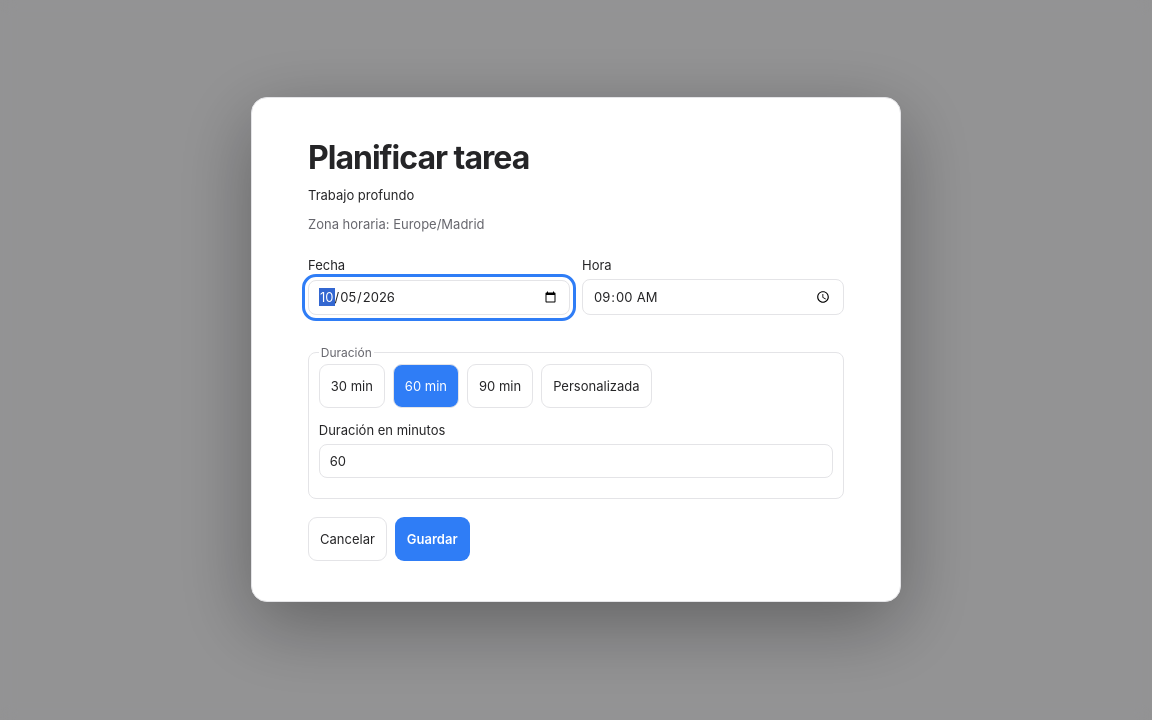
it: schedule command paths and validation › rejects invalid time without mutation
This screenshot has width=1152, height=720.
Clear the time field labelled "Hora": {"x": 713, "y": 297} left=582, top=279, right=844, bottom=315
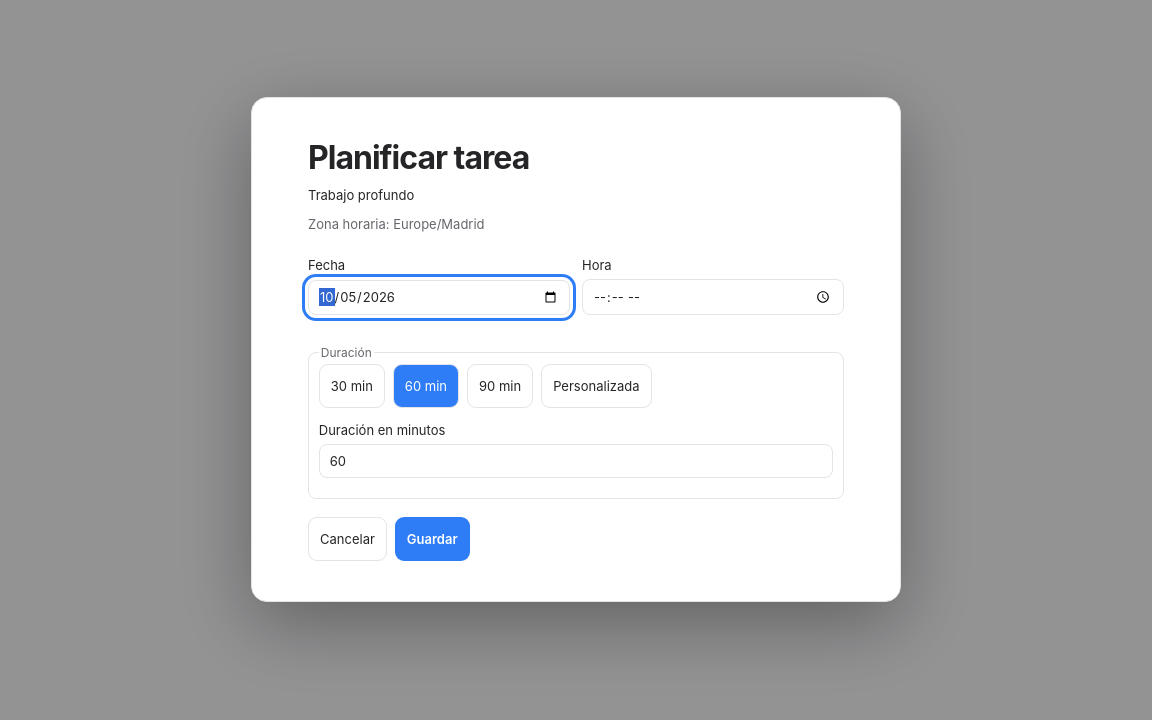
Submit the form named "Guardar", box left=296, top=126, right=856, bottom=573
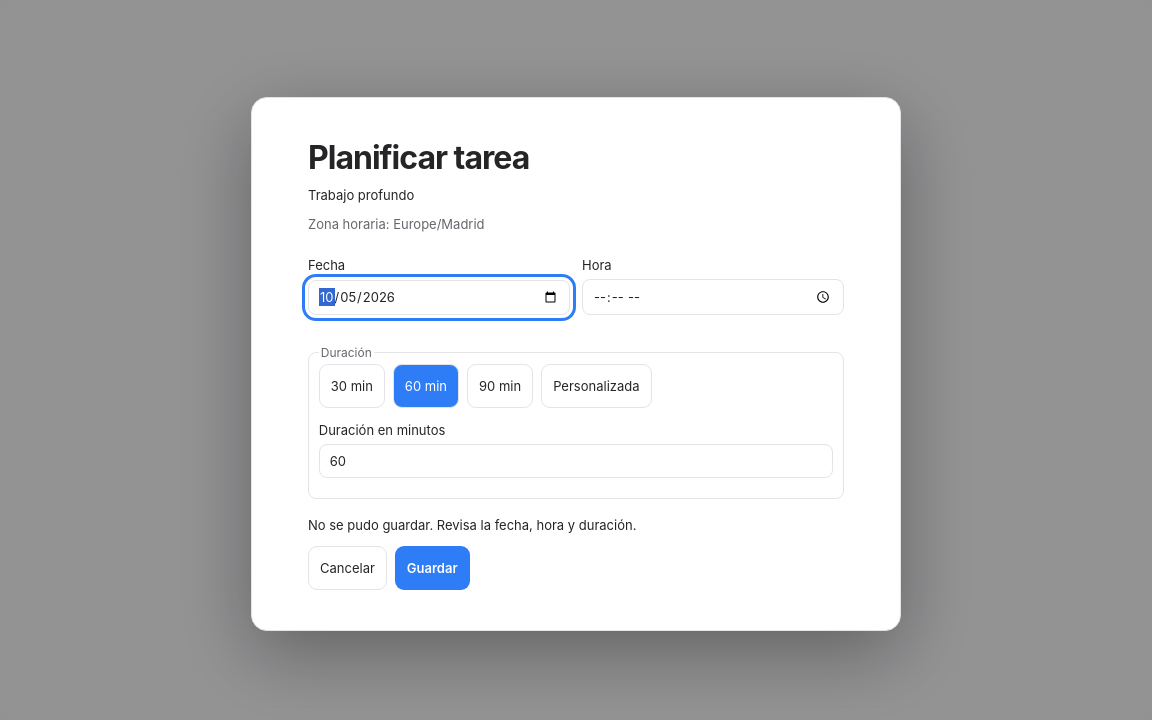
Expected: the message "No se pudo guardar. Revisa la fecha, hora y duración." is shown, left=308, top=517, right=636, bottom=533
